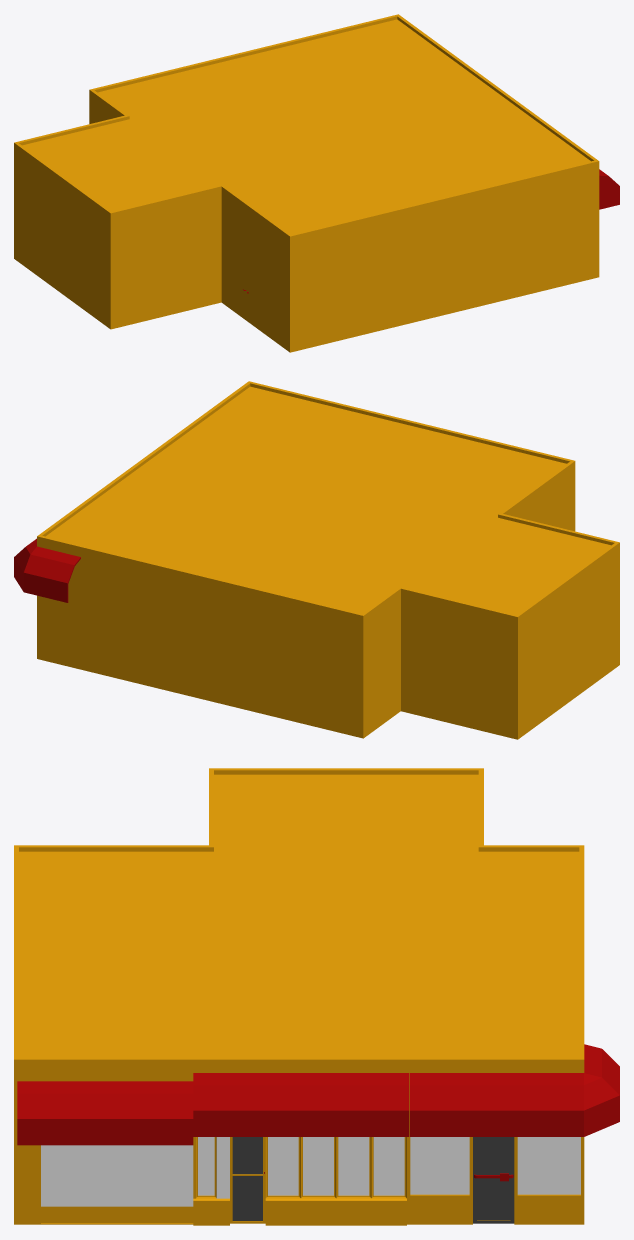
The model's file is shop1.FBX.
3 views of the same model, one above another, from view 1: azimuth 30°, elevation 25°; view 2: azimuth 150°, elevation 25°; view 3: azimuth 270°, elevation 25° (orthographic). The views are drawn at different scales.
Parts seen in each view (by area): view 1: Shop_B; view 2: Shop_B; view 3: Shop_B.
Part boxes in pixels (x1,y1,x2,y2): Shop_B: [14, 14, 619, 352]; Shop_B: [14, 381, 619, 739]; Shop_B: [14, 768, 619, 1225].
Size of the model in its own units: 1429 by 359 by 1195.
